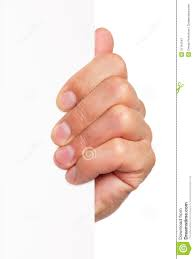hand: (52, 13, 153, 232)
